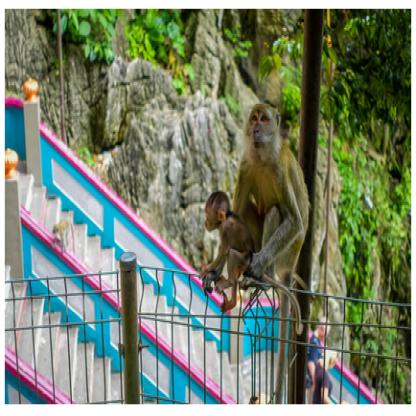monkey: (231, 98, 311, 289)
